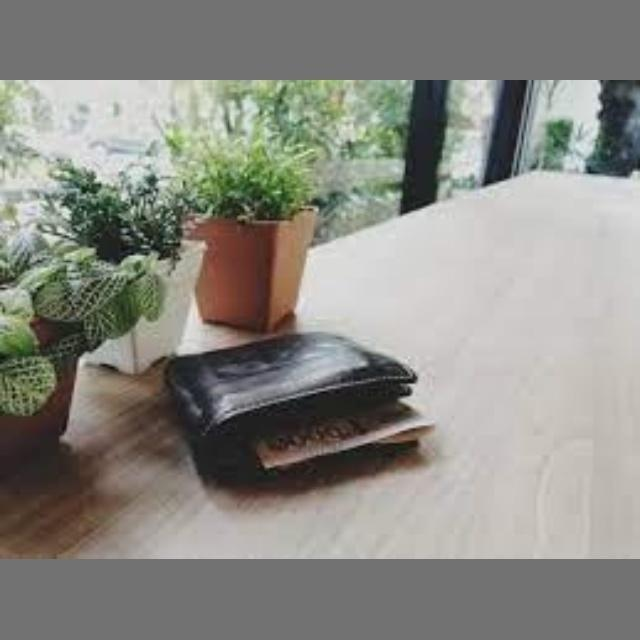Wallet: (154, 319, 566, 493)
